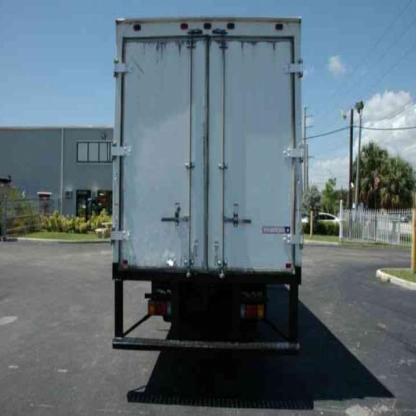truck: (113, 18, 305, 358)
